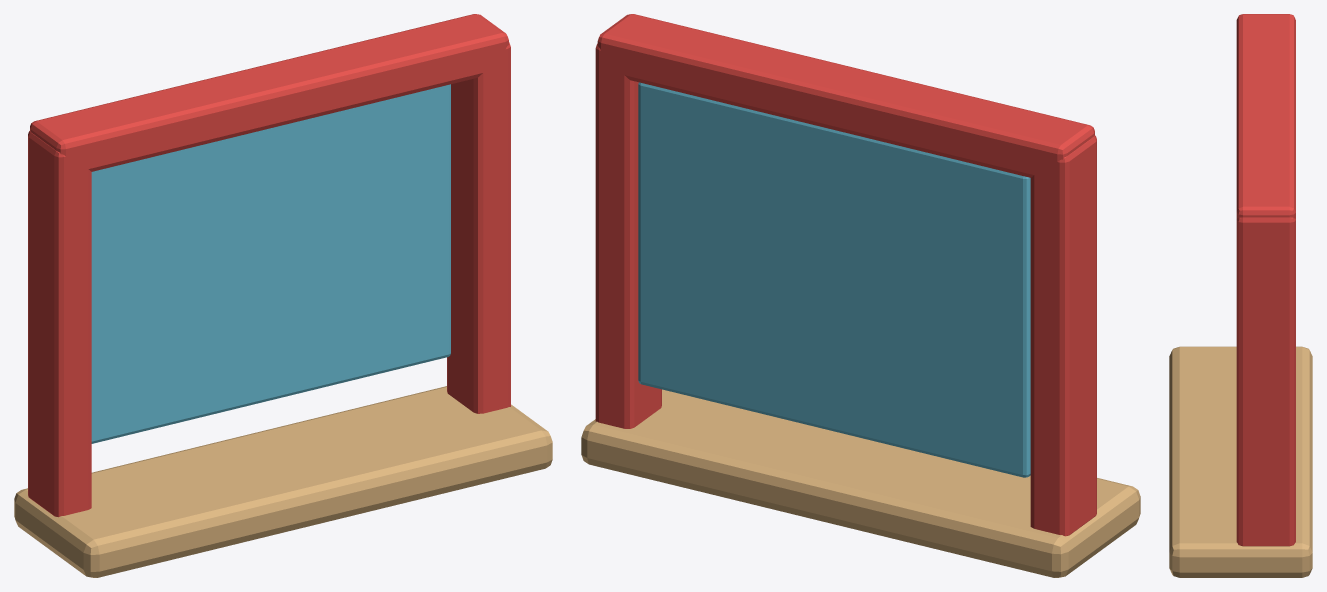
Rendered from CustomerWindow.fbx.
3 views of the same model, side by side, from view 1: azimuth 30°, elevation 25°; view 2: azimuth 150°, elevation 25°; view 3: azimuth 270°, elevation 25° (orthographic). The views are drawn at different scales.
Parts seen in each view (by area): view 1: Glass, Counter, TopFrame, LeftFrame, RightFrame; view 2: Glass, Counter, TopFrame, LeftFrame, RightFrame; view 3: Counter, RightFrame, TopFrame.
Boxes of the visible parts, x1,y1,x2,y2 form: Glass: (91, 84, 450, 443); Counter: (14, 386, 552, 577); TopFrame: (30, 14, 508, 172); LeftFrame: (28, 131, 91, 517); RightFrame: (447, 42, 510, 413); Glass: (638, 82, 1030, 477); Counter: (581, 389, 1140, 577); TopFrame: (597, 14, 1094, 180); LeftFrame: (1030, 135, 1096, 536); RightFrame: (595, 43, 661, 428); Counter: (1169, 346, 1312, 577); RightFrame: (1236, 217, 1295, 546); TopFrame: (1236, 14, 1295, 218).
Size of the model in its own units: 2.3 by 1.93 by 0.68.
